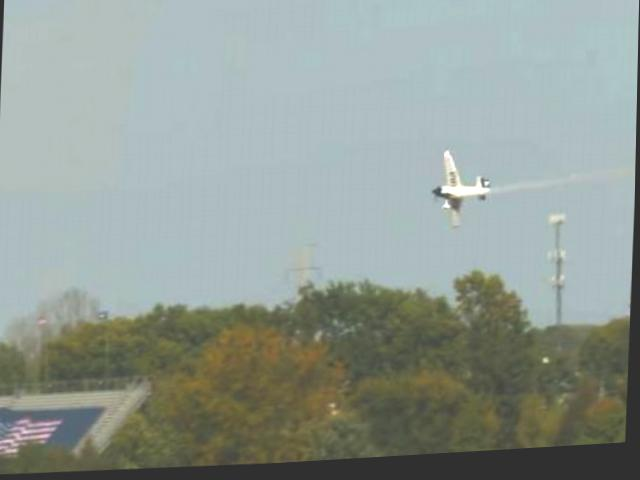uav: (430, 150, 495, 239)
